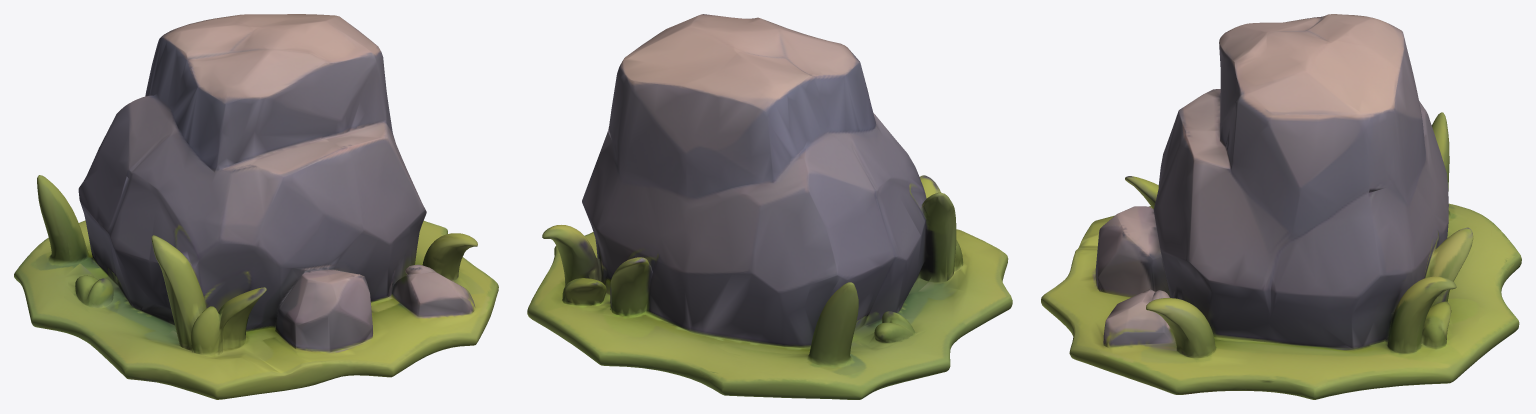
The model's file is rock1.fbx.
3 renders of one model, left to right at view 1: azimuth 30°, elevation 25°; view 2: azimuth 150°, elevation 25°; view 3: azimuth 270°, elevation 25°, orthographic. The views are drawn at different scales.
Visible parts, largest first — view 1: node_0; view 2: node_0; view 3: node_0.
Part boxes in pixels (x1=…): node_0: x1=14, y1=14, x2=498, y2=399; node_0: x1=527, y1=14, x2=1012, y2=399; node_0: x1=1041, y1=14, x2=1521, y2=399.
Bounding box in the file's own units: 0.3965 × 0.2447 × 0.3906.
1 material, 1 textured.
